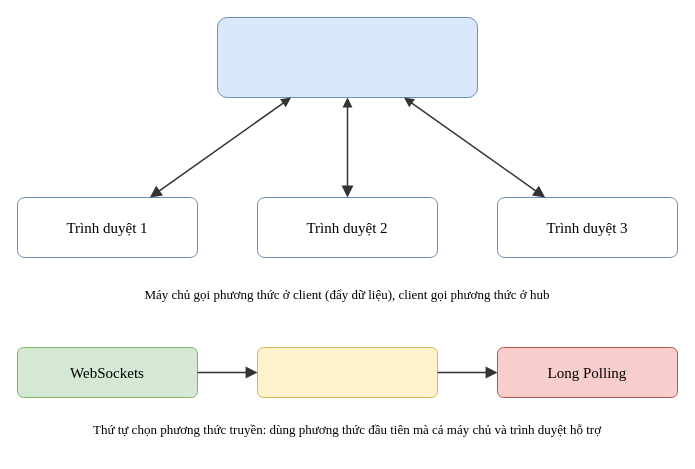
Some shapes in this 695 by 469 pixel diagram are drawn without their labels. Each missing label, with the centre of its shape:
Máy chủ ASP.NET Core Hub SignalR: [347,57]
Server-Sent Events: [347,372]
